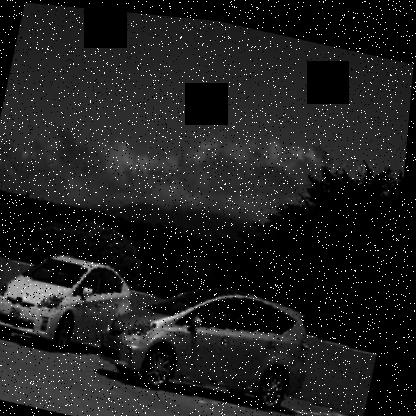not_emergency: (103, 257, 333, 415), (0, 232, 138, 368)
